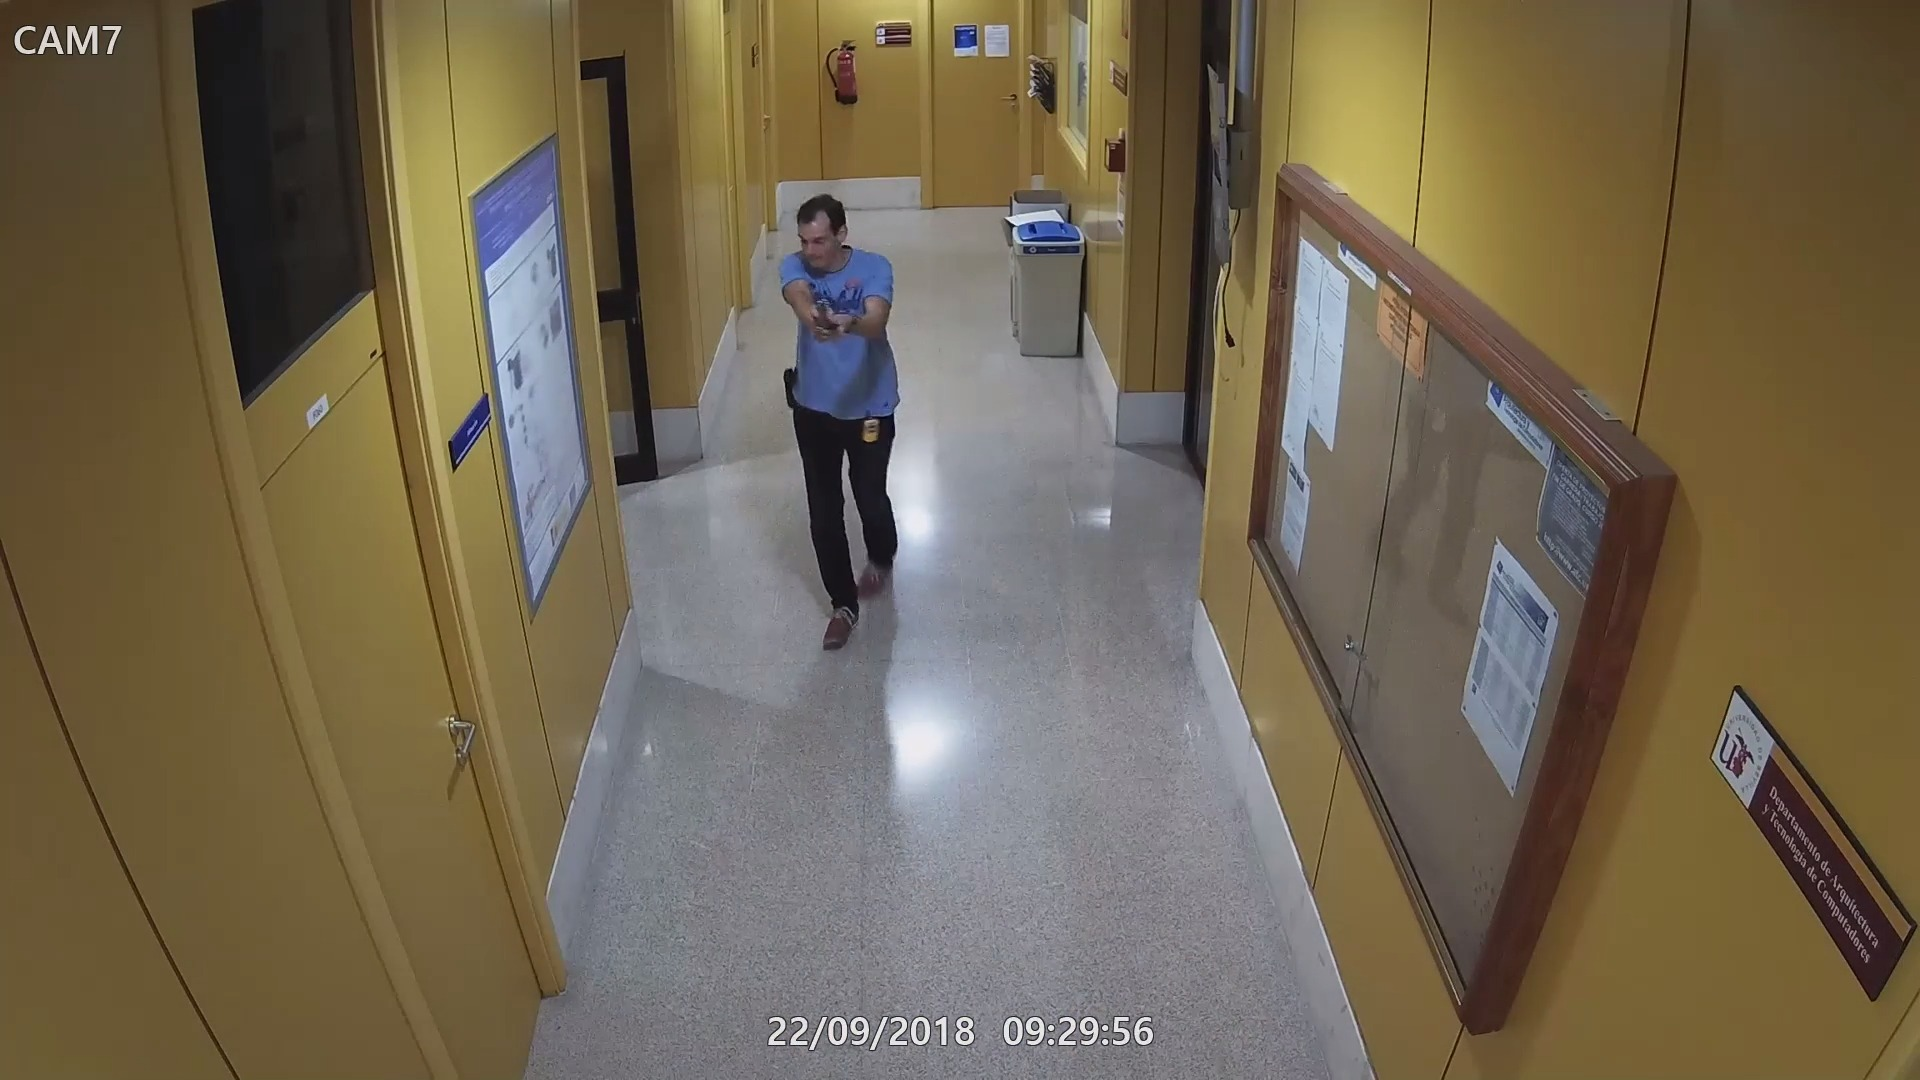Handgun: (804, 293, 851, 342)
Knife: (823, 310, 857, 338)
